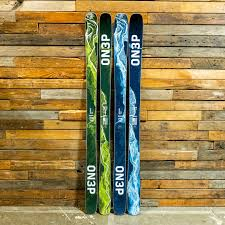skis: (113, 13, 145, 216), (84, 13, 112, 216)
